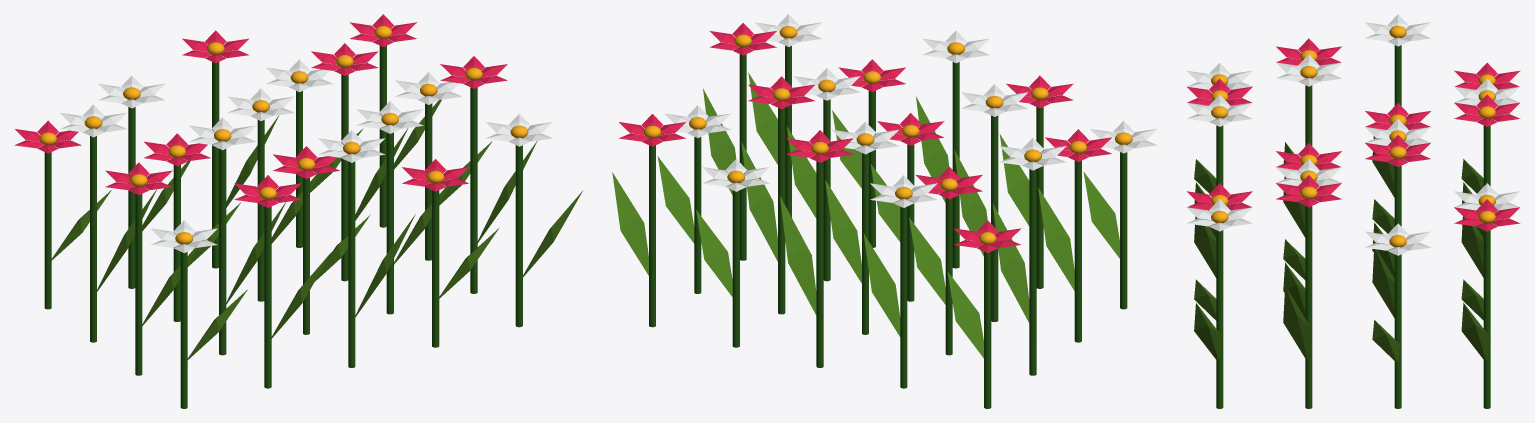
The model's file is Viragagyas.obj.
3 views of the same model, side by side, from view 1: azimuth 30°, elevation 25°; view 2: azimuth 150°, elevation 25°; view 3: azimuth 270°, elevation 25° (orthographic).
Bounding box in the file's own units: 0.805 × 0.4082 × 0.5626.
